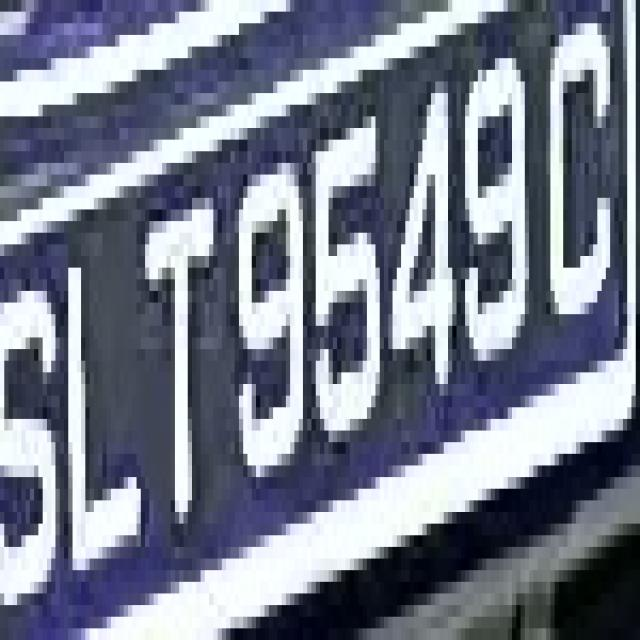4: (384, 35, 448, 454)
5: (307, 93, 380, 431)
9: (235, 140, 307, 500), (461, 47, 529, 407)
C: (533, 11, 619, 338)
L: (60, 221, 145, 594)
S: (9, 233, 64, 616)
T: (137, 198, 226, 535)
